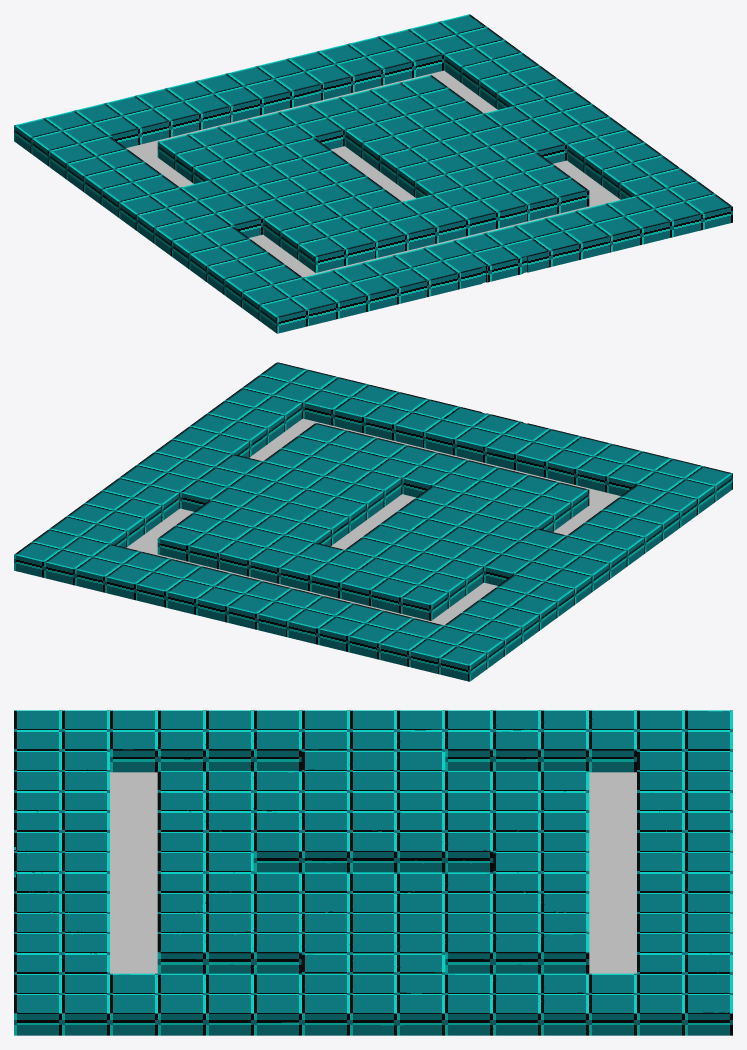
Rendered from Dungeon Floor Water [-].fbx.
The picture shows the model from 3 angles, top to bottom: view 1: azimuth 30°, elevation 25°; view 2: azimuth 150°, elevation 25°; view 3: azimuth 270°, elevation 25°; orthographic projection. The views are drawn at different scales.
Visible parts, largest first — view 1: 3DGeom~1, 3DGeom~2; view 2: 3DGeom~1, 3DGeom~2; view 3: 3DGeom~1, 3DGeom~2.
Boxes of the visible parts, x1=… form: 3DGeom~1: x1=14, y1=14, x2=732, y2=333; 3DGeom~2: x1=126, y1=70, x2=620, y2=277; 3DGeom~1: x1=14, y1=362, x2=732, y2=681; 3DGeom~2: x1=126, y1=418, x2=620, y2=625; 3DGeom~1: x1=14, y1=710, x2=732, y2=1035; 3DGeom~2: x1=110, y1=772, x2=636, y2=973.
Size of the model in its own units: 15 by 15 by 0.5.
